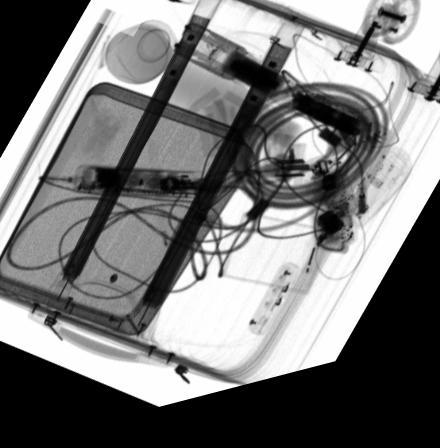Baton: (172, 31, 392, 174)
